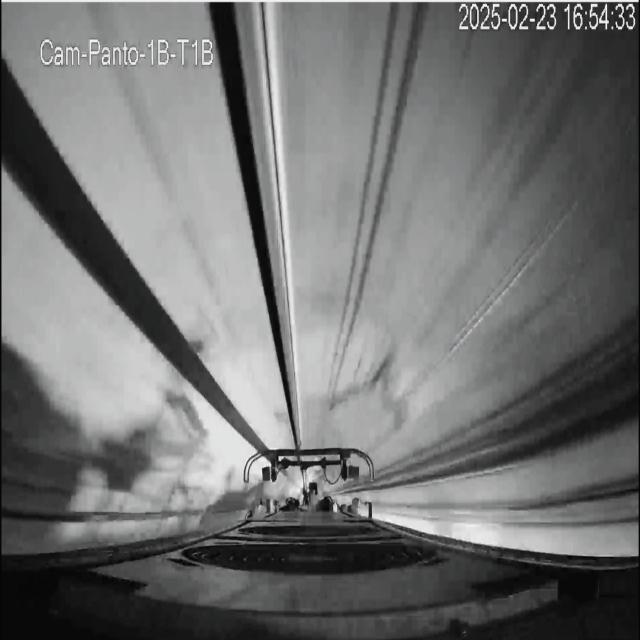Camera Stamp: (33, 29, 222, 72)
Date Stamp: (459, 3, 637, 33)
No - Spark: (244, 446, 376, 518)
